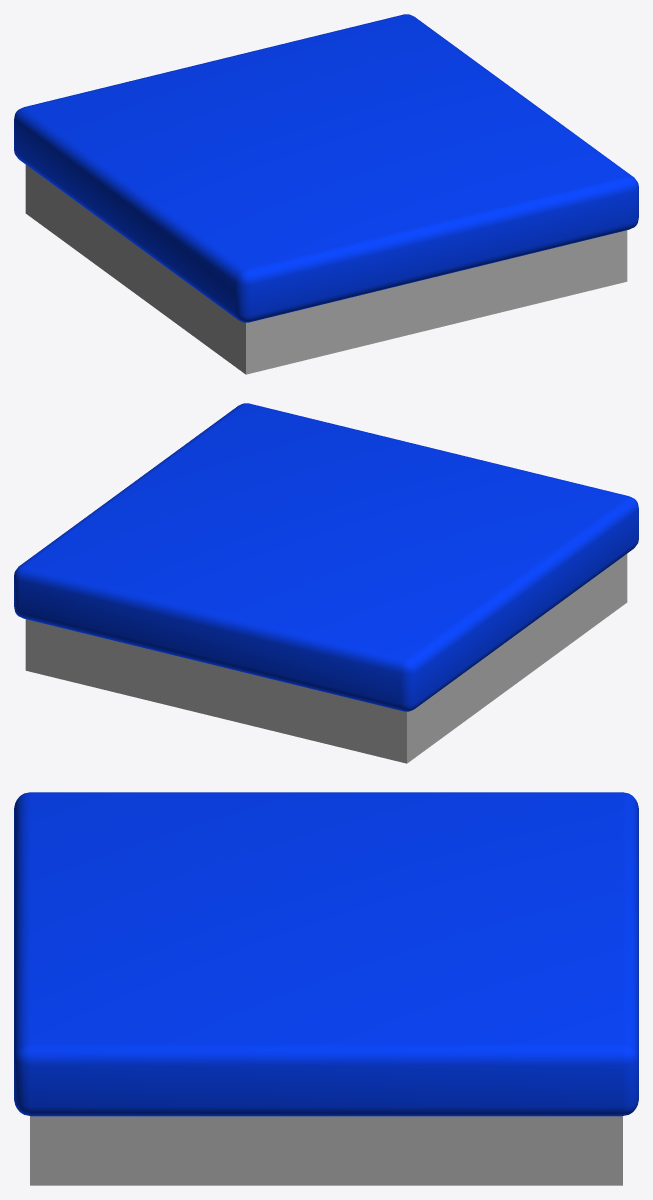
The model's file is Base 1 Low White Blue.glb.
3 renders of one model, top to bottom at view 1: azimuth 30°, elevation 25°; view 2: azimuth 150°, elevation 25°; view 3: azimuth 270°, elevation 25°, orthographic. The views are drawn at different scales.
Parts seen in each view (by area): view 1: Base_1_Low_White_; view 2: Base_1_Low_White_; view 3: Base_1_Low_White_.
Part boxes in pixels (x1=…): Base_1_Low_White_: x1=14, y1=14, x2=638, y2=374; Base_1_Low_White_: x1=14, y1=403, x2=638, y2=763; Base_1_Low_White_: x1=14, y1=792, x2=638, y2=1185.
Size of the model in its own units: 7.98 by 2 by 7.98.
